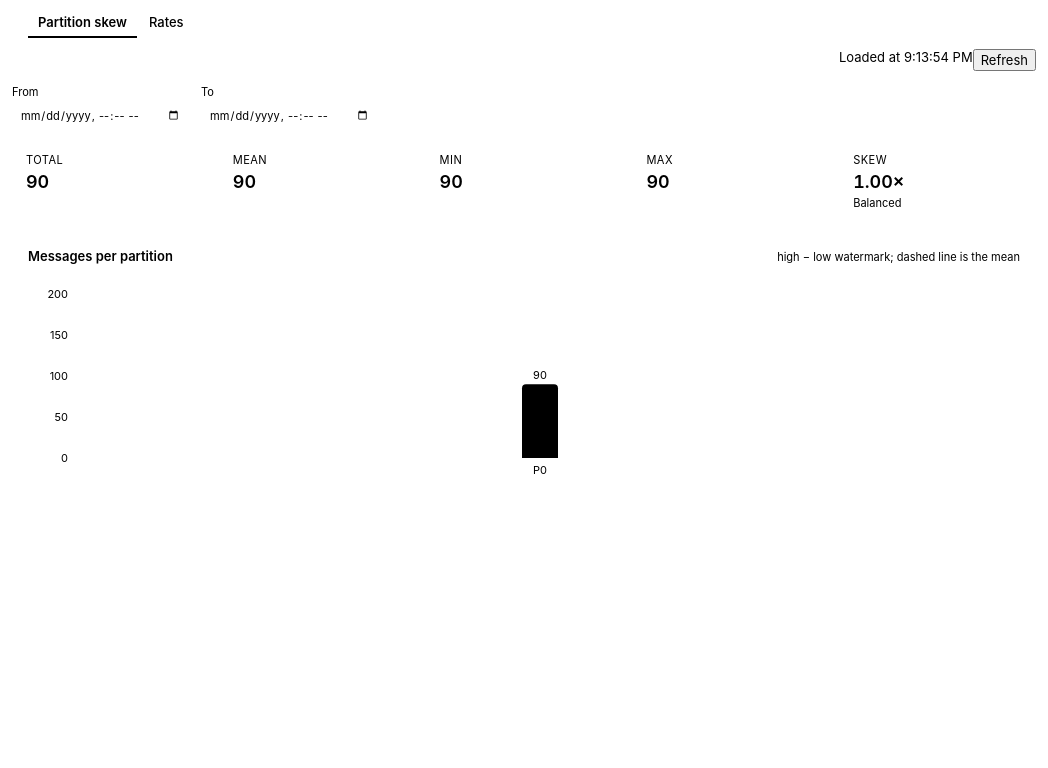
TopicMetricsTab › From / To window › says so when nothing falls in the window
Type "2026-01-01T00:00" into the field labelled "From".
click(100, 116); type("2026-01-01T00:00")  # box [12, 103, 189, 129]
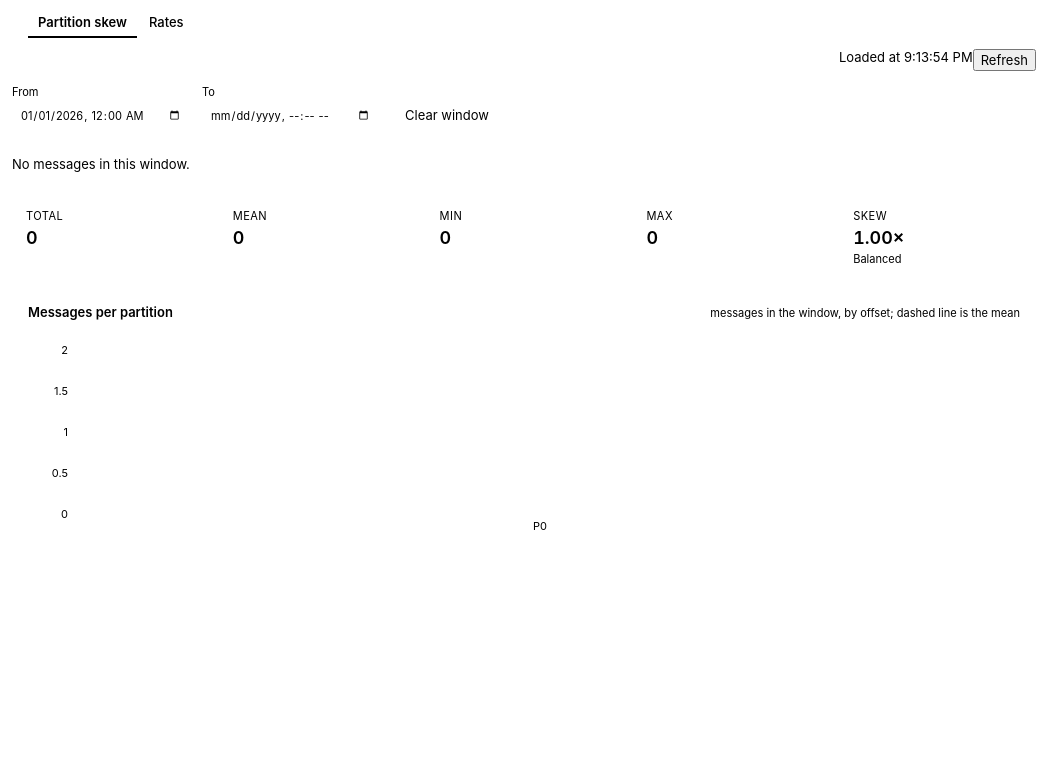
Expected: the text "No messages in this window." is shown, [12, 156, 190, 172]
